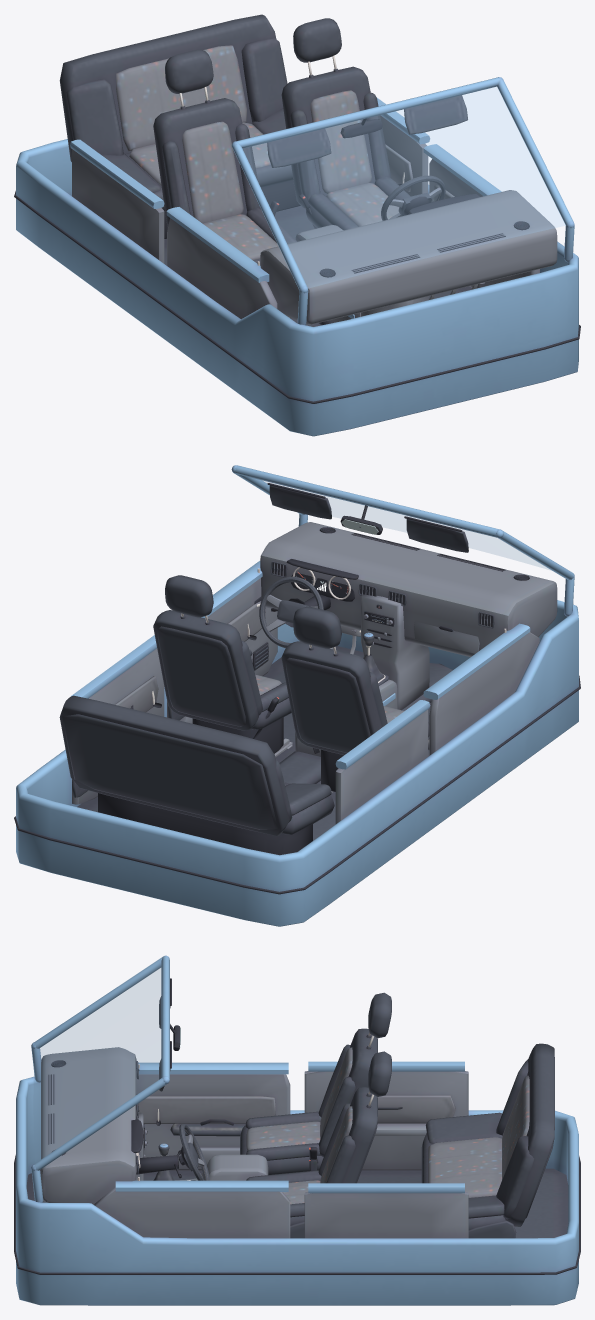
The model's file is 1990s-car-interior.glb.
3 views of the same model, one above another, from view 1: azimuth 30°, elevation 25°; view 2: azimuth 150°, elevation 25°; view 3: azimuth 270°, elevation 25° (orthographic). The views are drawn at different scales.
Visible parts, largest first — view 1: 1990s-car-interior_body, 1990s-car-interior_windshield_glass, 1990s-car-interior_steering_wheel; view 2: 1990s-car-interior_body, 1990s-car-interior_windshield_glass, 1990s-car-interior_steering_wheel; view 3: 1990s-car-interior_body, 1990s-car-interior_windshield_glass, 1990s-car-interior_steering_wheel.
Boxes of the visible parts, left/top/right/bottom form: 1990s-car-interior_body: left=14, top=14, right=580, bottom=436; 1990s-car-interior_windshield_glass: left=243, top=86, right=565, bottom=287; 1990s-car-interior_steering_wheel: left=381, top=175, right=445, bottom=220; 1990s-car-interior_body: left=14, top=465, right=580, bottom=926; 1990s-car-interior_windshield_glass: left=255, top=479, right=549, bottom=569; 1990s-car-interior_steering_wheel: left=259, top=576, right=323, bottom=647; 1990s-car-interior_body: left=14, top=955, right=580, bottom=1305; 1990s-car-interior_windshield_glass: left=33, top=965, right=161, bottom=1162; 1990s-car-interior_steering_wheel: left=178, top=1124, right=209, bottom=1180.
Size of the model in its own units: 1.78 by 1.38 by 3.18.
8 materials, 2 textured.
